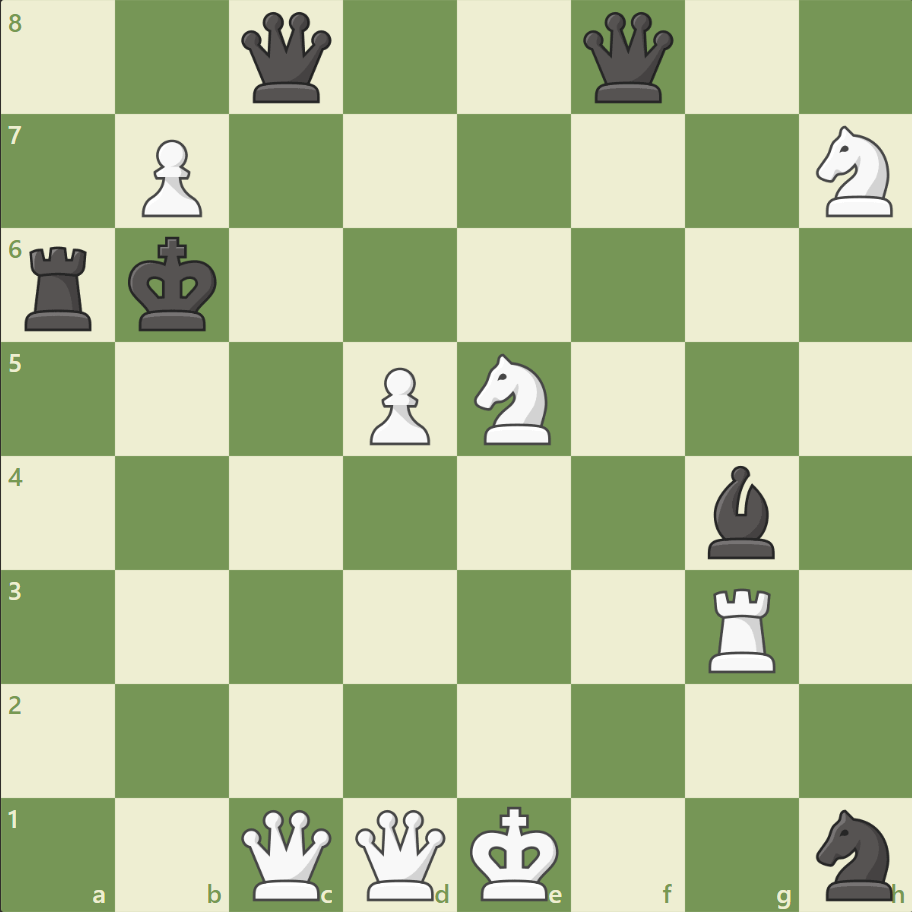K: (465, 798, 565, 906)
N: (806, 121, 903, 223), (465, 348, 562, 450)
P: (133, 132, 208, 223), (361, 359, 435, 450)
Q: (237, 804, 336, 903), (351, 804, 450, 903)
R: (700, 579, 783, 676)
b: (698, 460, 782, 563)
k: (124, 231, 224, 339)
n: (806, 802, 903, 904)
q: (237, 9, 336, 108), (578, 9, 677, 108)
r: (19, 239, 102, 336)
